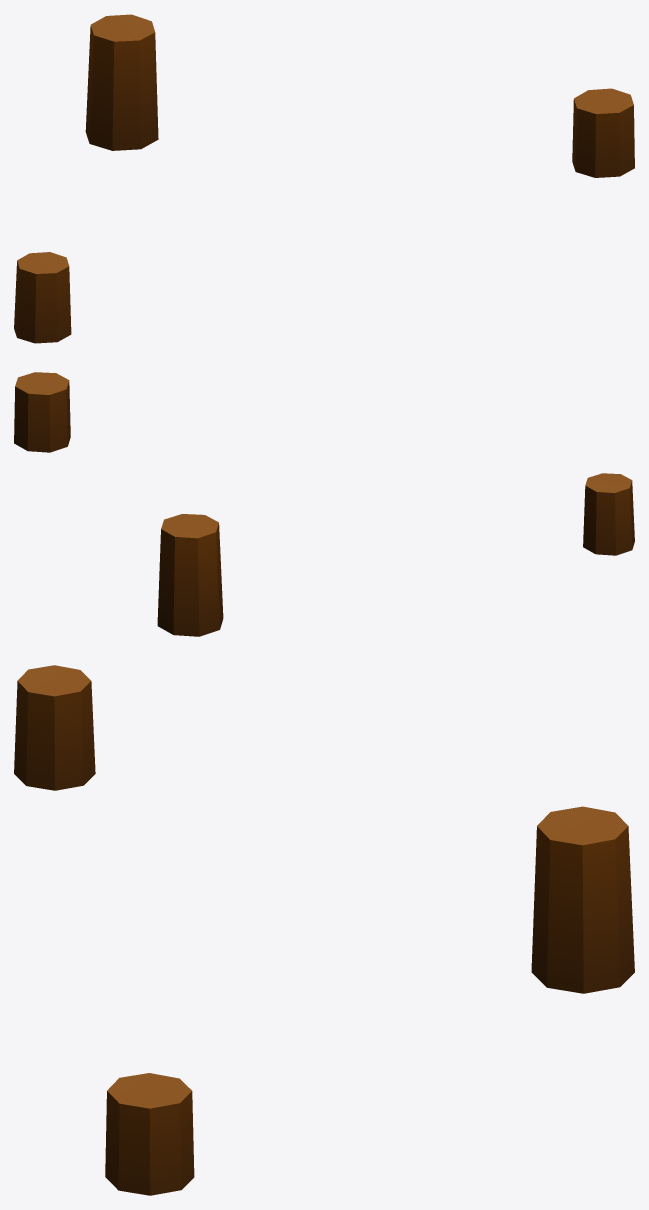
Rendered from Cutted_Tree.fbx.
The picture shows the model from 3 angles, top to bottom: view 1: azimuth 30°, elevation 25°; view 2: azimuth 150°, elevation 25°; view 3: azimuth 270°, elevation 25°; orthographic projection. The views are drawn at different scales.
Parts seen in each view (by area): view 1: Trees1.001; view 2: Trees1.001; view 3: Trees1.001.
Boxes of the visible parts, x1=… form: Trees1.001: x1=14, y1=14, x2=634, y2=343; Trees1.001: x1=14, y1=372, x2=634, y2=636; Trees1.001: x1=14, y1=665, x2=634, y2=1195.
Size of the model in its own units: 121 by 19.15 by 72.94.
